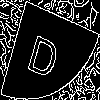D: (25, 25, 64, 80)
